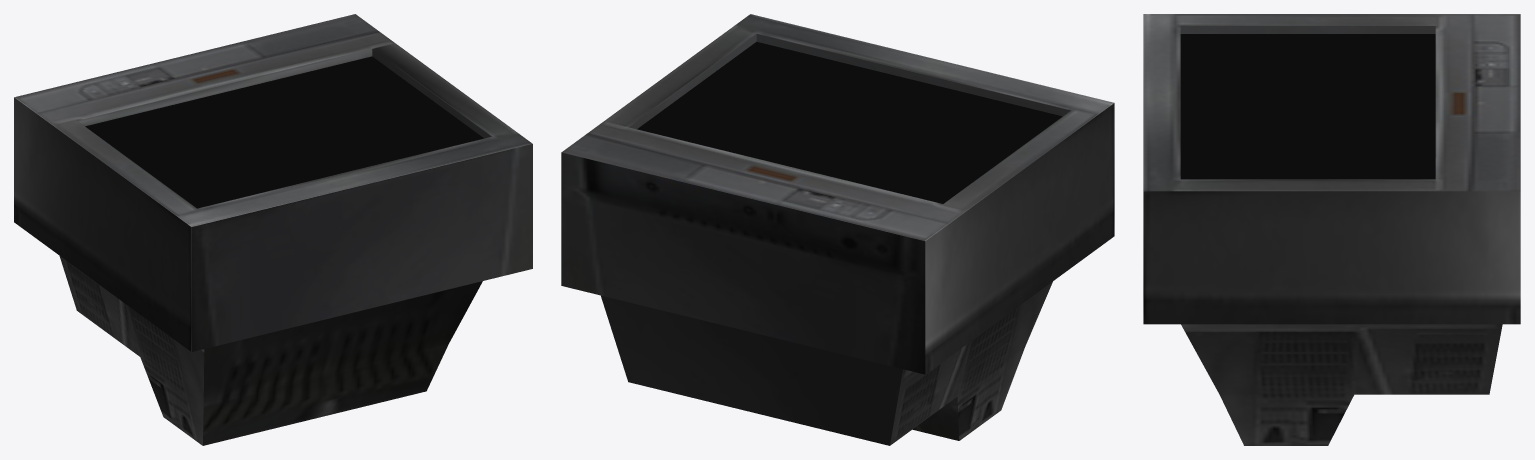
3 views of the same model, side by side, from view 1: azimuth 30°, elevation 25°; view 2: azimuth 150°, elevation 25°; view 3: azimuth 270°, elevation 25° (orthographic). The views are drawn at different scales.
Parts seen in each view (by area): view 1: TVCRT_Material.001, TVCRT_Material; view 2: TVCRT_Material.001, TVCRT_Material; view 3: TVCRT_Material.001, TVCRT_Material.
Part boxes in pixels (bbox=[...]): TVCRT_Material.001: bbox=[14, 14, 532, 445]; TVCRT_Material: bbox=[85, 56, 483, 208]; TVCRT_Material.001: bbox=[561, 14, 1114, 445]; TVCRT_Material: bbox=[637, 41, 1062, 203]; TVCRT_Material.001: bbox=[1143, 14, 1520, 445]; TVCRT_Material: bbox=[1180, 34, 1435, 179].
Bounding box in the file's own units: 0.6 × 0.45 × 0.54.
